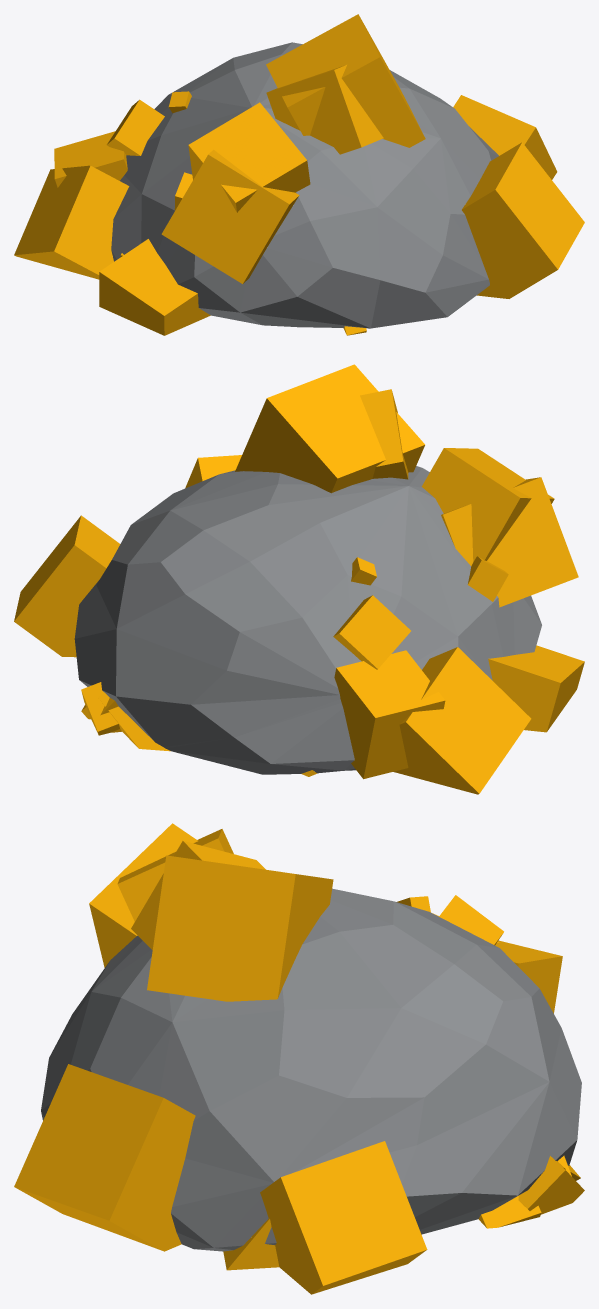
Rendered from SquareGemsVar1.fbx.
The picture shows the model from 3 angles, top to bottom: view 1: azimuth 30°, elevation 25°; view 2: azimuth 150°, elevation 25°; view 3: azimuth 270°, elevation 25°; orthographic projection. The views are drawn at different scales.
Parts seen in each view (by area): view 1: SquareGemsVar1Garnite; view 2: SquareGemsVar1Garnite; view 3: SquareGemsVar1Garnite.
Boxes of the visible parts, x1=… form: SquareGemsVar1Garnite: x1=14, y1=14, x2=584, y2=335; SquareGemsVar1Garnite: x1=14, y1=364, x2=584, y2=794; SquareGemsVar1Garnite: x1=14, y1=823, x2=584, y2=1294.
Bounding box in the file's own units: 228 × 107 × 182.
